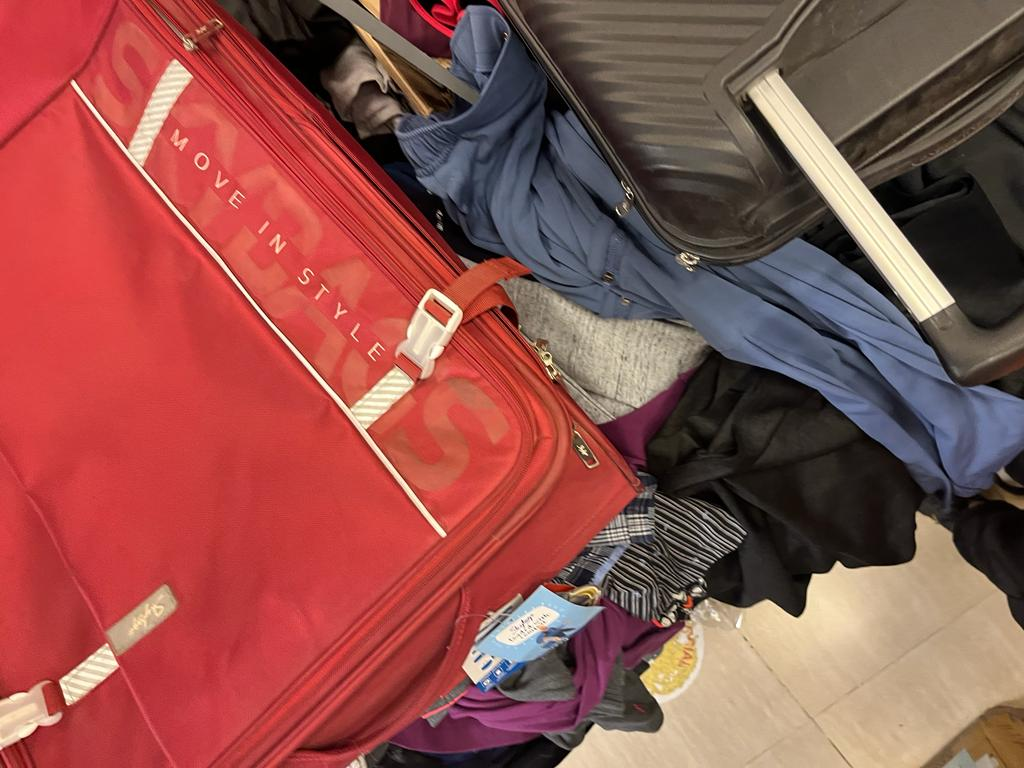Bag: (0, 3, 646, 768), (492, 0, 1024, 399)
Handle: (760, 41, 1024, 403)
